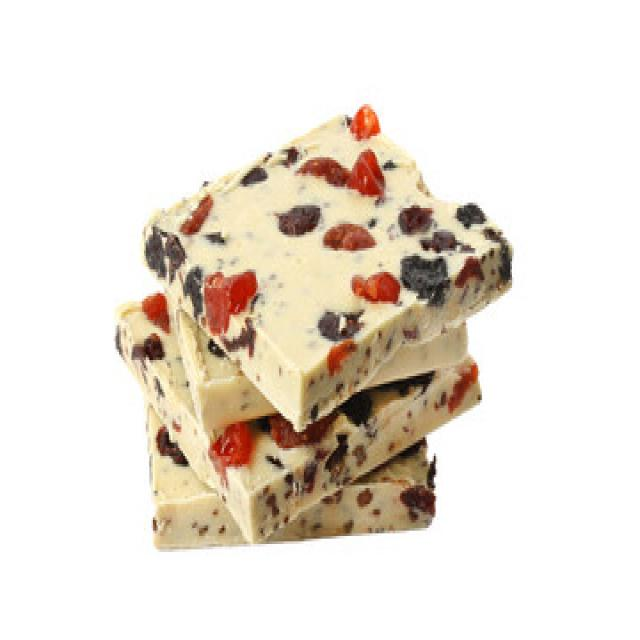Chocolate: (118, 99, 516, 550)
